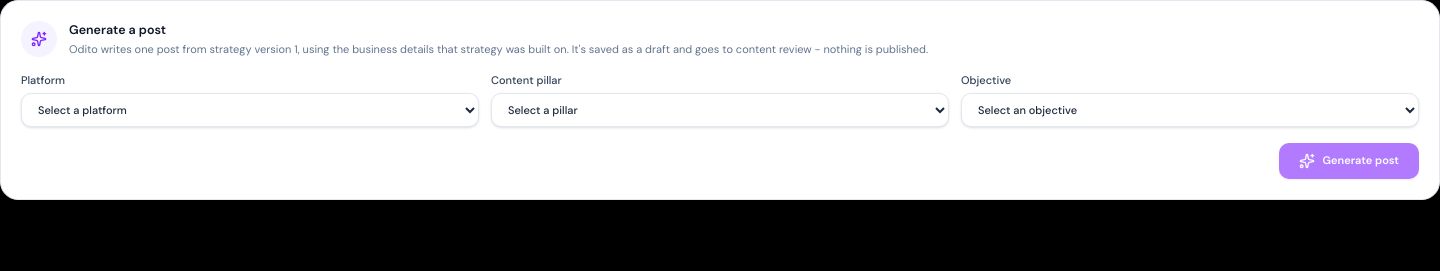
Single-post generator - failures are the server's, never faked › a refused start (409 NO_STRATEGY) shows the server's own message and creates no result
Expected: the button with test id "generate-post-button" is shown, left=1279, top=143, right=1419, bottom=179
Select "Facebook" in the dropdown with test id "generator-platform" at (250, 110), box left=21, top=93, right=479, bottom=127
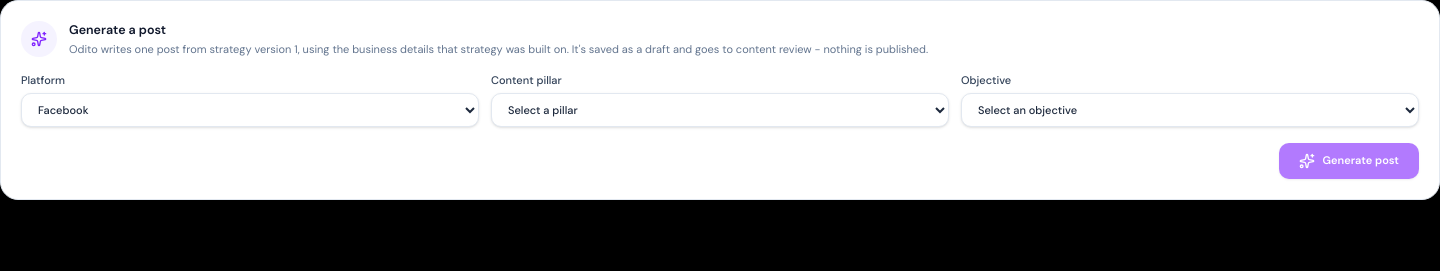
Select "Dental tips" in the dropdown with test id "generator-pillar" at (720, 110), box left=491, top=93, right=949, bottom=127
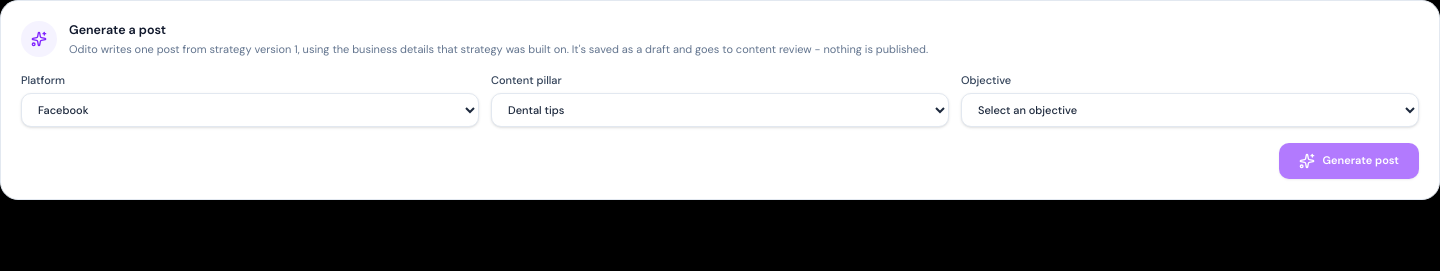
Select "Educational" in the dropdown with test id "generator-objective" at (1190, 110), box left=961, top=93, right=1419, bottom=127
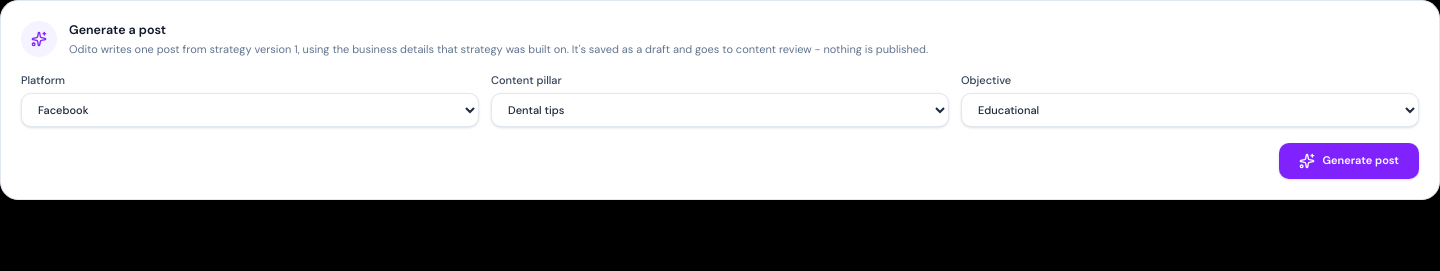
Click the button with test id "generate-post-button" at (1349, 161), box left=1279, top=143, right=1419, bottom=179
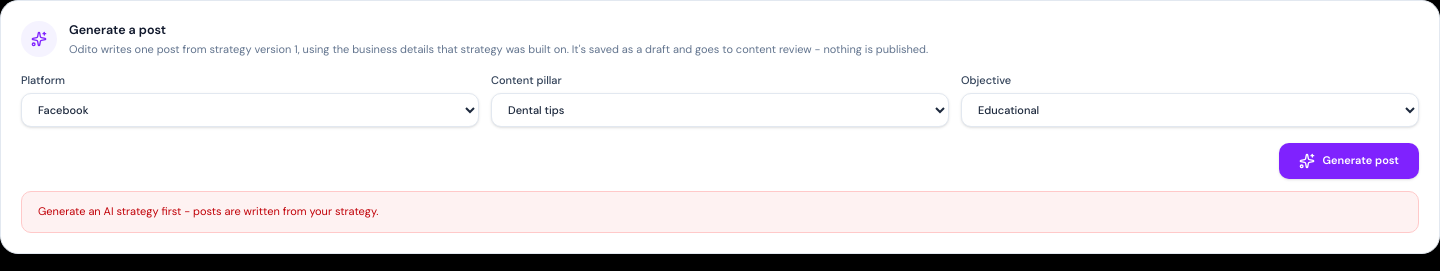
Now the button with test id "generate-post-button" is enabled, box left=1279, top=143, right=1419, bottom=179
Now the message with test id "generator-start-error" reads "Generate an AI strategy first - posts are written from your strategy.", box left=38, top=204, right=378, bottom=218
